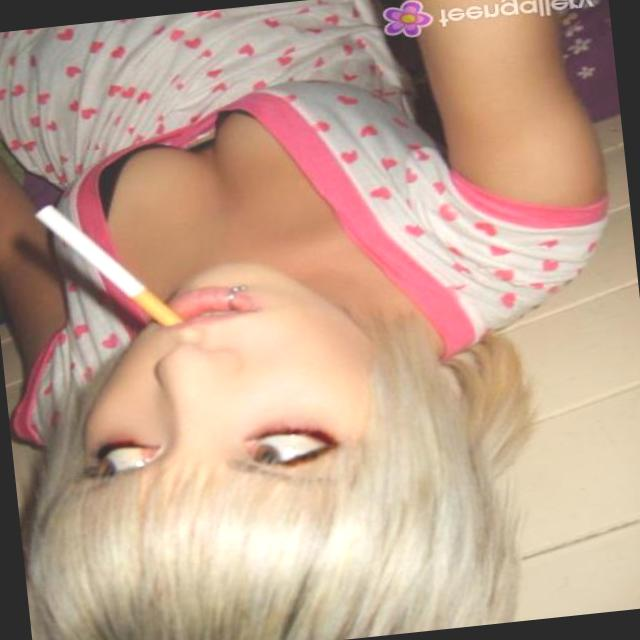cigarette: (24, 182, 190, 365)
